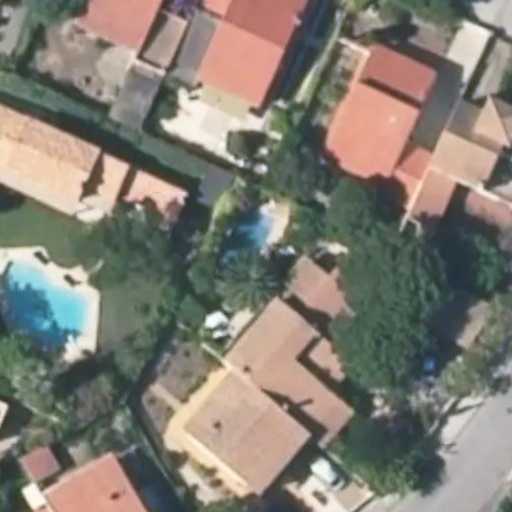pool: (1, 259, 89, 369), (213, 203, 281, 285)
